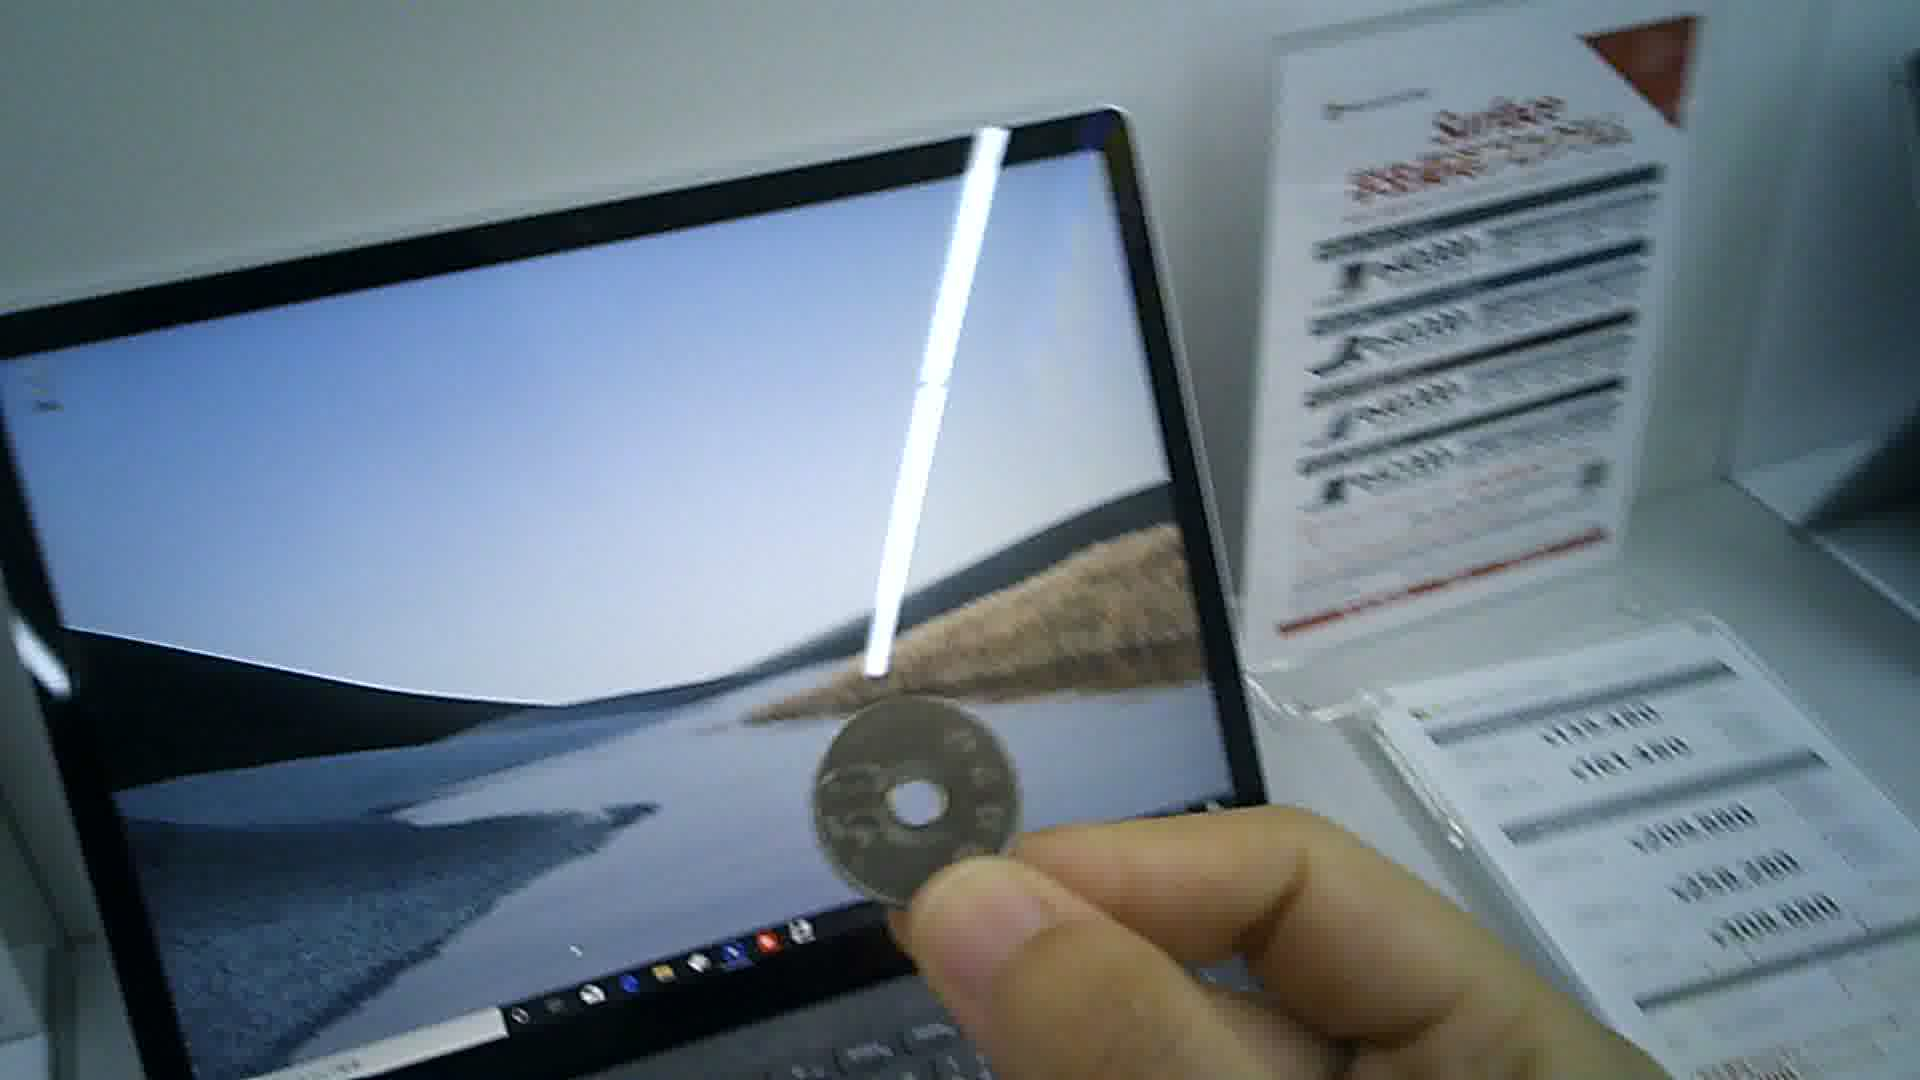50 Yen: (807, 695, 1029, 914)
